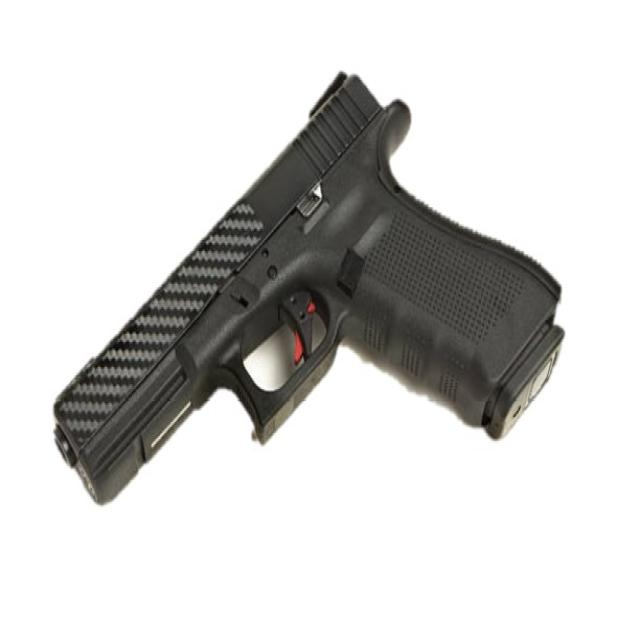pistol: (49, 59, 568, 510)
